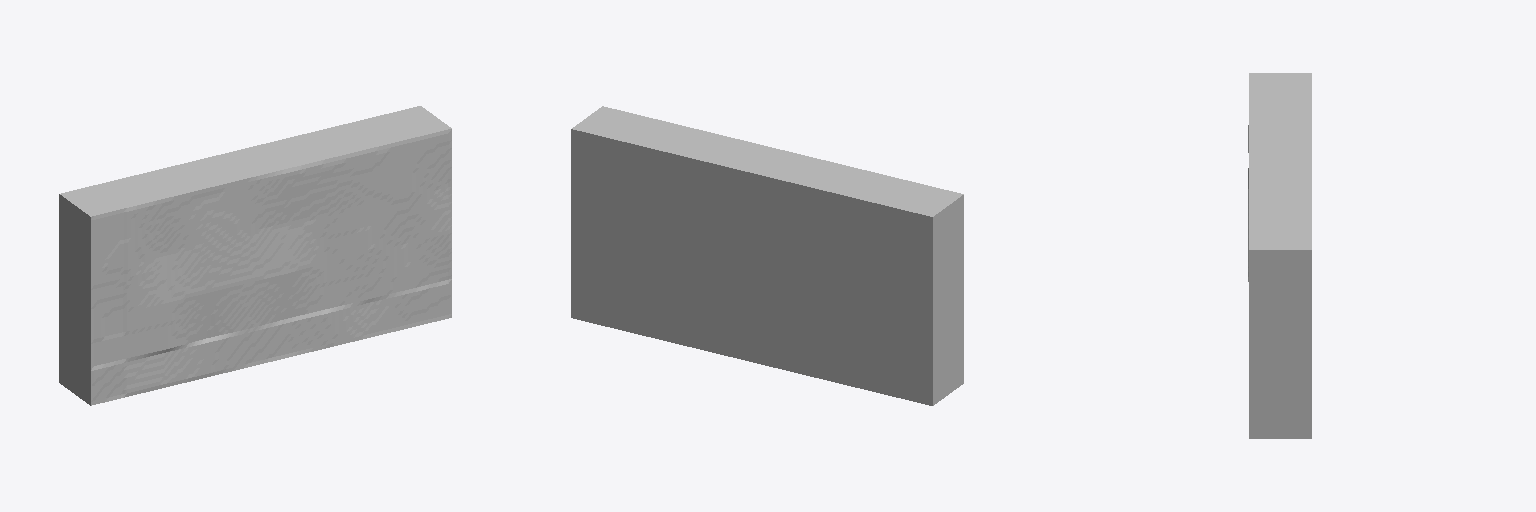
The model's file is rectangular_prism_bumps_1_3.obj.
The picture shows the model from 3 angles: view 1: azimuth 30°, elevation 25°; view 2: azimuth 150°, elevation 25°; view 3: azimuth 270°, elevation 25°; orthographic projection.
Size of the model in its own units: 10 by 5 by 1.53.